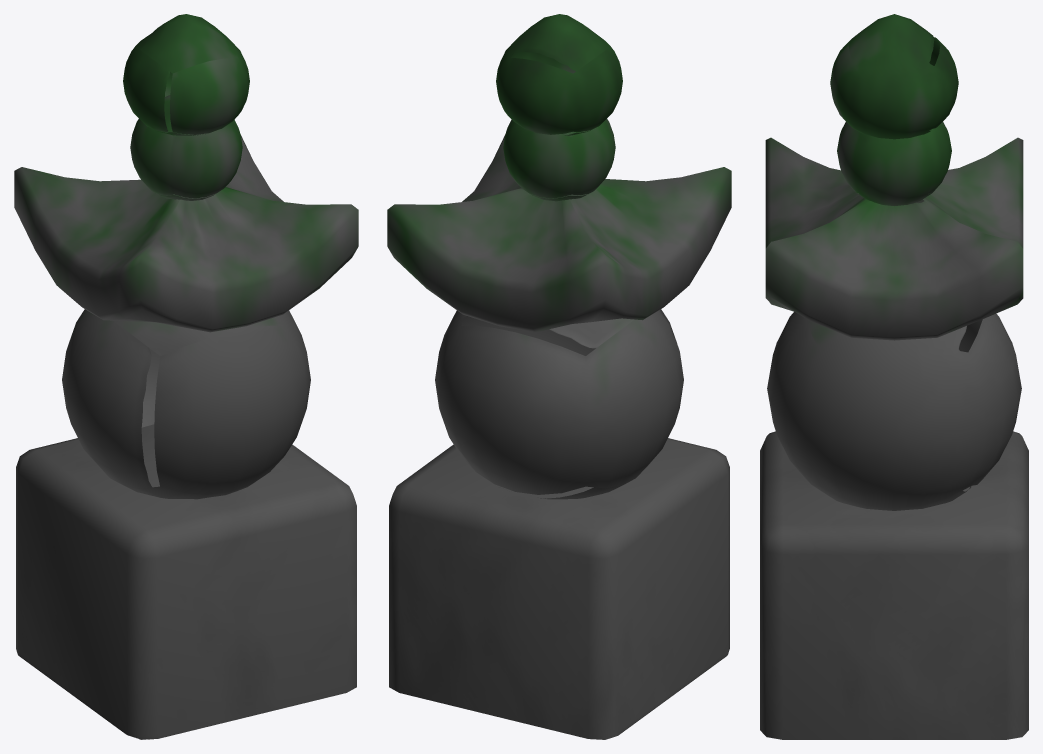
File: Gorintou.fbx
3 views of the same model, side by side, from view 1: azimuth 30°, elevation 25°; view 2: azimuth 150°, elevation 25°; view 3: azimuth 270°, elevation 25° (orthographic). The views are drawn at different scales.
Parts seen in each view (by area): view 1: Gorintou_LOD0; view 2: Gorintou_LOD0; view 3: Gorintou_LOD0.
Boxes of the visible parts, box(x1,y1,x2,y2) form: Gorintou_LOD0: box(14, 14, 358, 739); Gorintou_LOD0: box(387, 14, 731, 739); Gorintou_LOD0: box(760, 14, 1028, 739).
Size of what is drawn, in the model's own units: 65.03 by 178 by 65.03.
